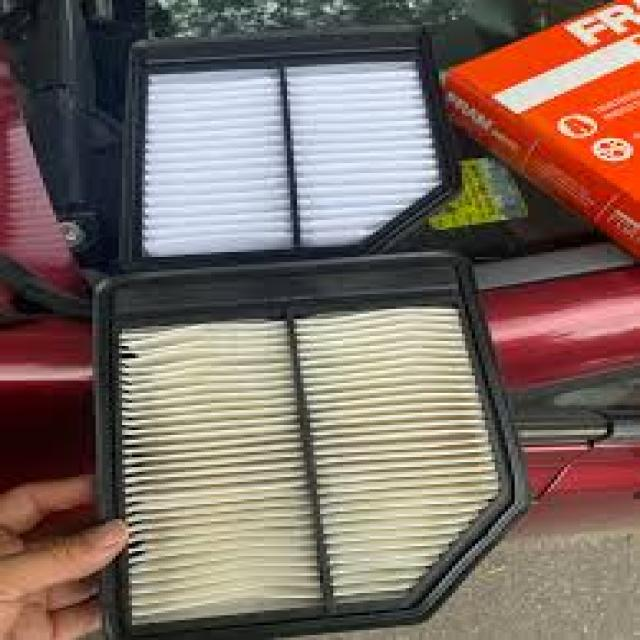air_filter: (88, 245, 568, 638), (117, 20, 472, 271)
